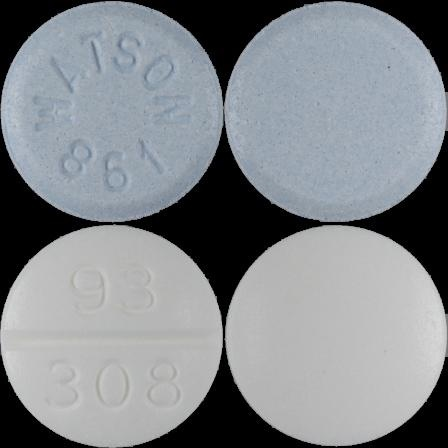51655-414: (0, 0, 224, 224)
